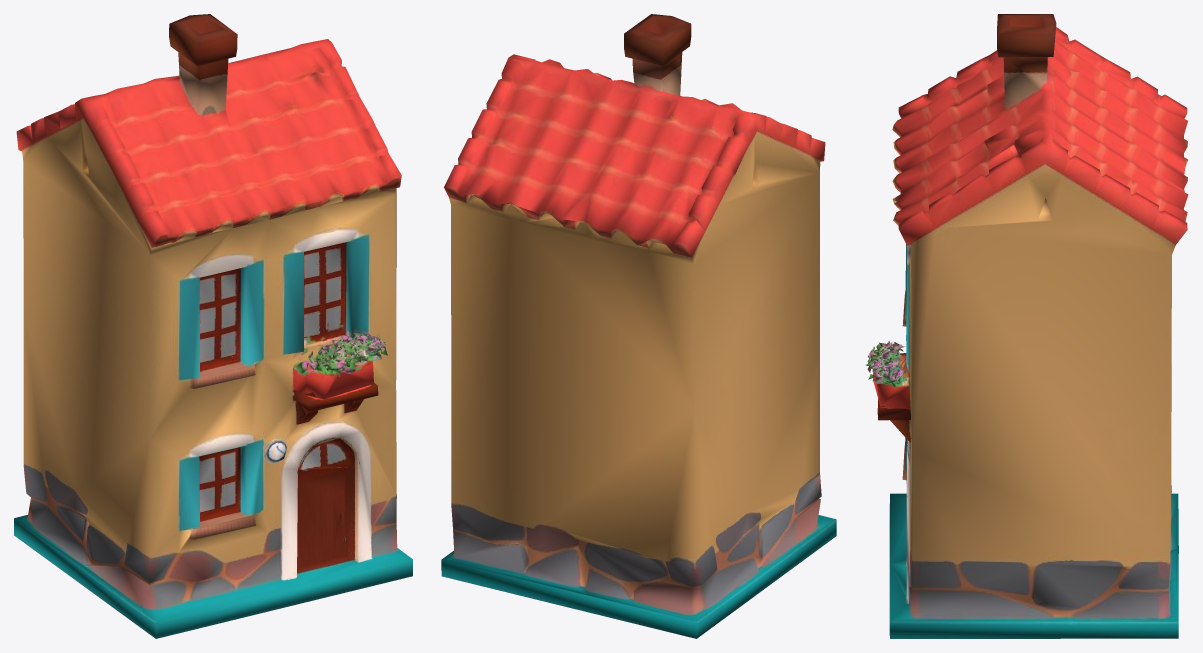
The model's file is house_terra_2.glb.
The picture shows the model from 3 angles, left to right: view 1: azimuth 30°, elevation 25°; view 2: azimuth 150°, elevation 25°; view 3: azimuth 270°, elevation 25°; orthographic projection. The views are drawn at different scales.
Visible parts, largest first — view 1: ЦІЛЬ; view 2: ЦІЛЬ; view 3: ЦІЛЬ.
Boxes of the visible parts, x1,y1,x2,y2 form: ЦІЛЬ: (14, 14, 412, 638); ЦІЛЬ: (441, 14, 836, 638); ЦІЛЬ: (865, 14, 1188, 638).
Size of the model in its own units: 1.06 by 2.1 by 1.12.
1 material, 1 textured.
